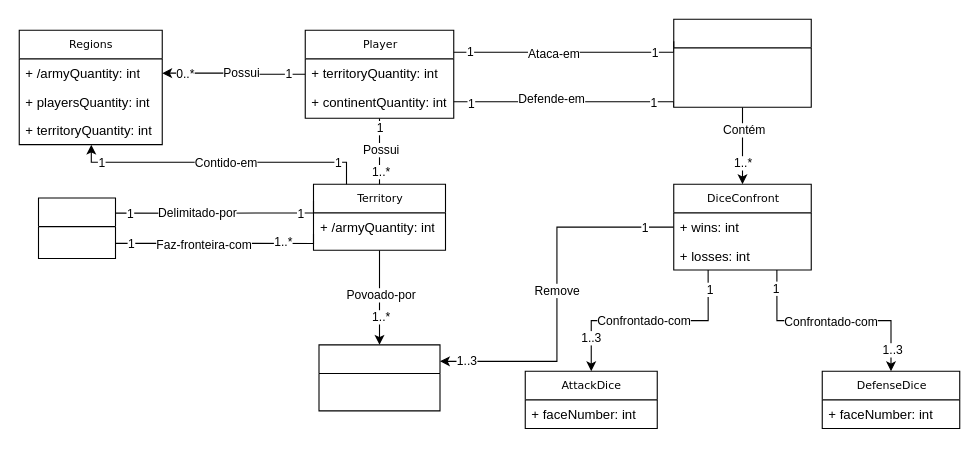
This 979x451 diagram has some shape labels left out. Each missing label, with the centre of its shape:
"Army" belongs at point (379, 377).
"Border" belongs at point (76, 227).
"Combat" belongs at point (742, 62).
